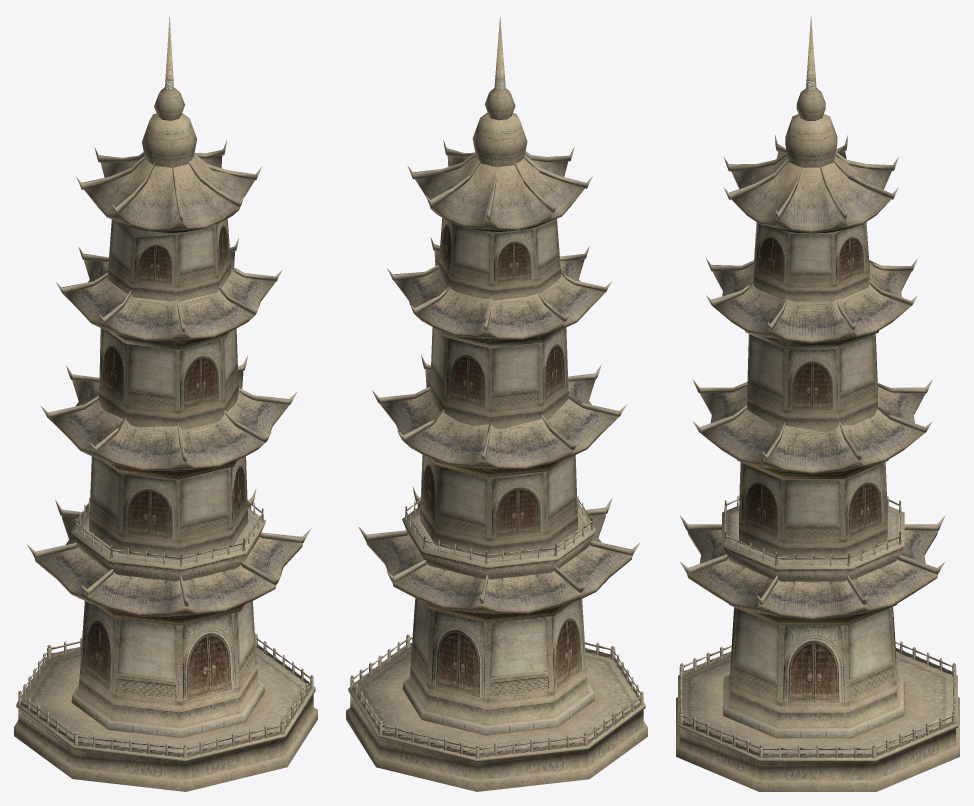
Rendered from desert_tower_lod_01.fbx.
3 views of the same model, side by side, from view 1: azimuth 30°, elevation 25°; view 2: azimuth 150°, elevation 25°; view 3: azimuth 270°, elevation 25° (orthographic).
Parts seen in each view (by area): view 1: desert_tower02_02, desert_tower02_03, desert_tower02_01; view 2: desert_tower02_02, desert_tower02_03, desert_tower02_01; view 3: desert_tower02_02, desert_tower02_03, desert_tower02_01.
Part boxes in pixels (x1,y1,x2,y2): desert_tower02_02: (27, 113, 310, 738); desert_tower02_03: (34, 17, 302, 625); desert_tower02_01: (14, 497, 317, 791); desert_tower02_02: (358, 112, 640, 735); desert_tower02_03: (366, 15, 632, 623); desert_tower02_01: (346, 495, 647, 791); desert_tower02_02: (680, 114, 945, 738); desert_tower02_03: (687, 15, 937, 625); desert_tower02_01: (676, 496, 959, 791).
Bounding box in the file's own units: 17.02 × 47.5 × 17.02.
